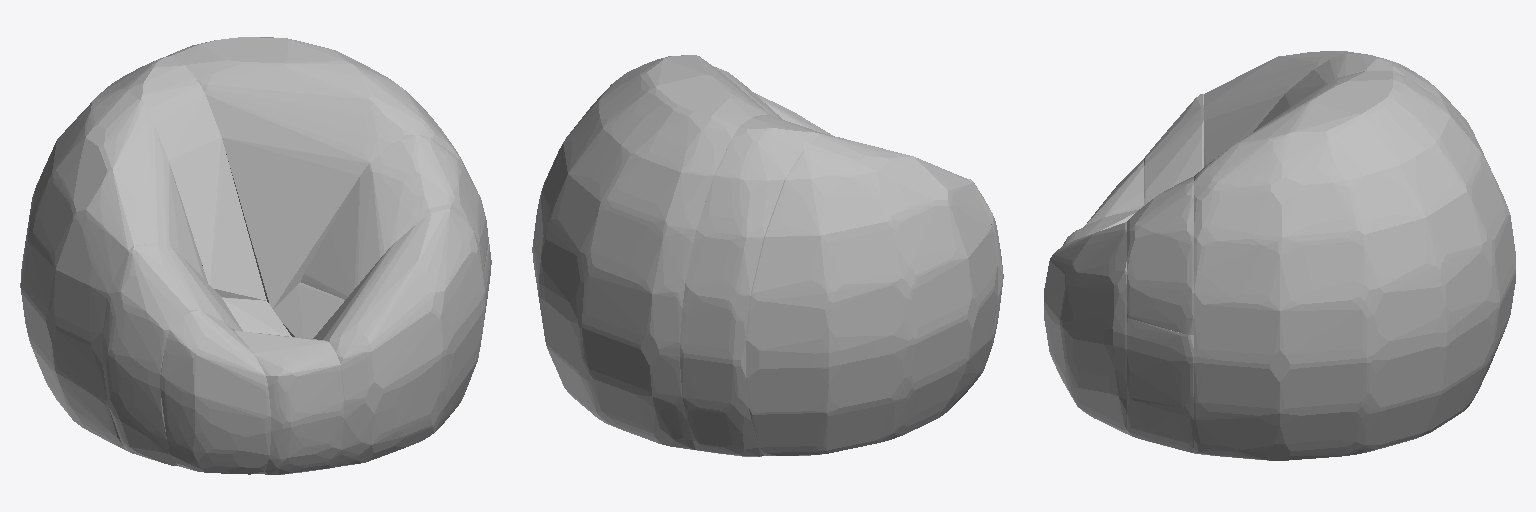
robot.urdf — root:
<?xml version="1.0"?>
<robot name="root">
  <link name="base_link">
    <visual>
      <origin xyz="0 0 0" rpy="0 0 0" />
      <geometry>
        <mesh filename="../meshes/unidex_sem_BeanBag-7263fe53bb4601efa37f3fc191551700_006.obj" scale="1.0000E+00 1.0000E+00 1.0000E+00" />
      </geometry>
      <material name="">
        <color rgba="7.50E-01 7.50E-01 7.50E-01 1" />
      </material>
    </visual>
    <collision>
      <origin xyz="0 0 0" rpy="0 0 0" />
      <geometry>
        <mesh filename="../meshes/unidex_sem_BeanBag-7263fe53bb4601efa37f3fc191551700_006.obj" scale="1.0000E+00 1.0000E+00 1.0000E+00" />
      </geometry>
    </collision>
  </link>
</robot>

--- Render facts (derived) ---
3 views of the same robot in one strip: view 1: azimuth 30°, elevation 25°; view 2: azimuth 150°, elevation 25°; view 3: azimuth 270°, elevation 25° (orthographic).
Model root with 1 links and 0 joints (none), rooted at base_link, posed all joints at 0.
Links seen in each view (by area): view 1: base_link; view 2: base_link; view 3: base_link.
Boxes of the visible links, box(x1,y1,x2,y2) form: base_link: box(20, 37, 491, 474); base_link: box(532, 55, 1003, 456); base_link: box(1044, 51, 1515, 460).
Bounding box of the posed robot: 0.1017 × 0.1017 × 0.0707 m (x, y, z).
Meshes: 1 distinct files referenced, 1 mesh visuals loaded (1 OBJ).
